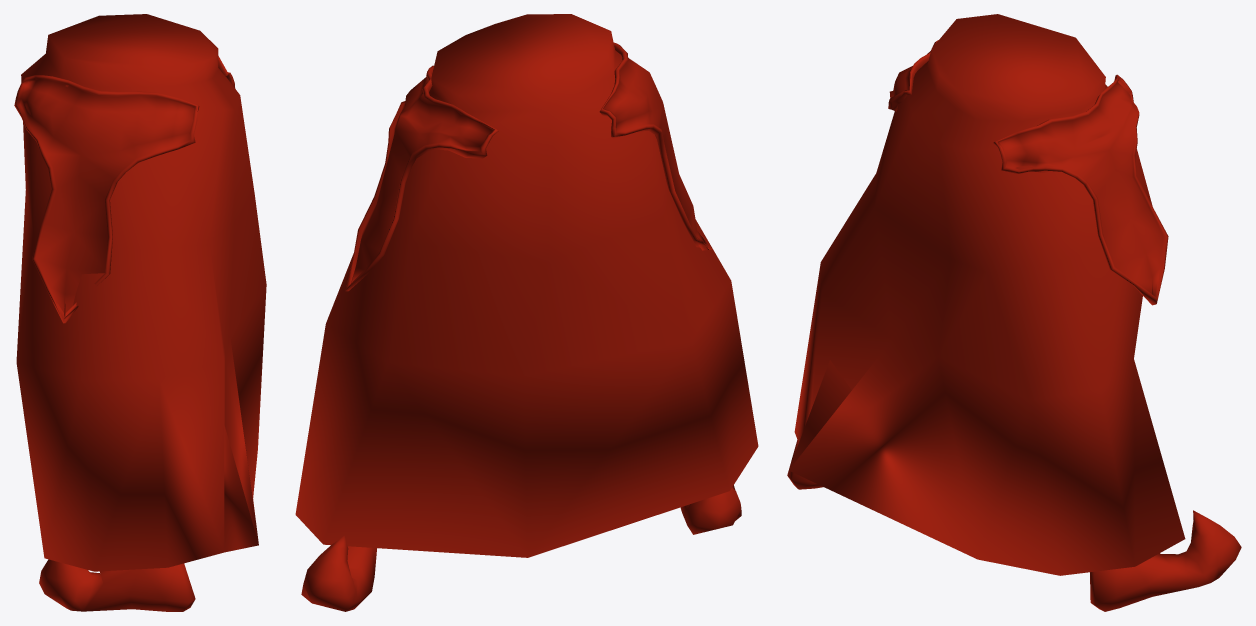
The model's file is bot_000038.obj.
3 renders of one model, left to right at view 1: azimuth 30°, elevation 25°; view 2: azimuth 150°, elevation 25°; view 3: azimuth 270°, elevation 25°, orthographic. The views are drawn at different scales.
Parts seen in each view (by area): view 1: LowPoly_Warlock.004_Plane.004; view 2: LowPoly_Warlock.004_Plane.004; view 3: LowPoly_Warlock.004_Plane.004.
Boxes of the visible parts, x1,y1,x2,y2 form: LowPoly_Warlock.004_Plane.004: (14,14,266,611); LowPoly_Warlock.004_Plane.004: (295,14,758,611); LowPoly_Warlock.004_Plane.004: (787,14,1241,611).
Size of the model in its own units: 0.69 by 1.13 by 0.9149.
